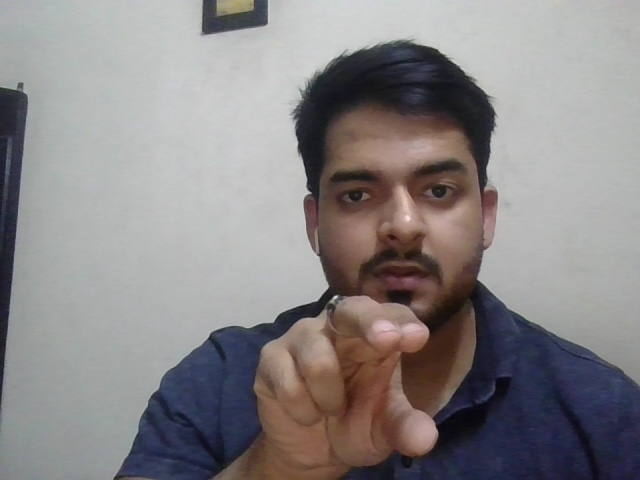no: (253, 293, 442, 469)
